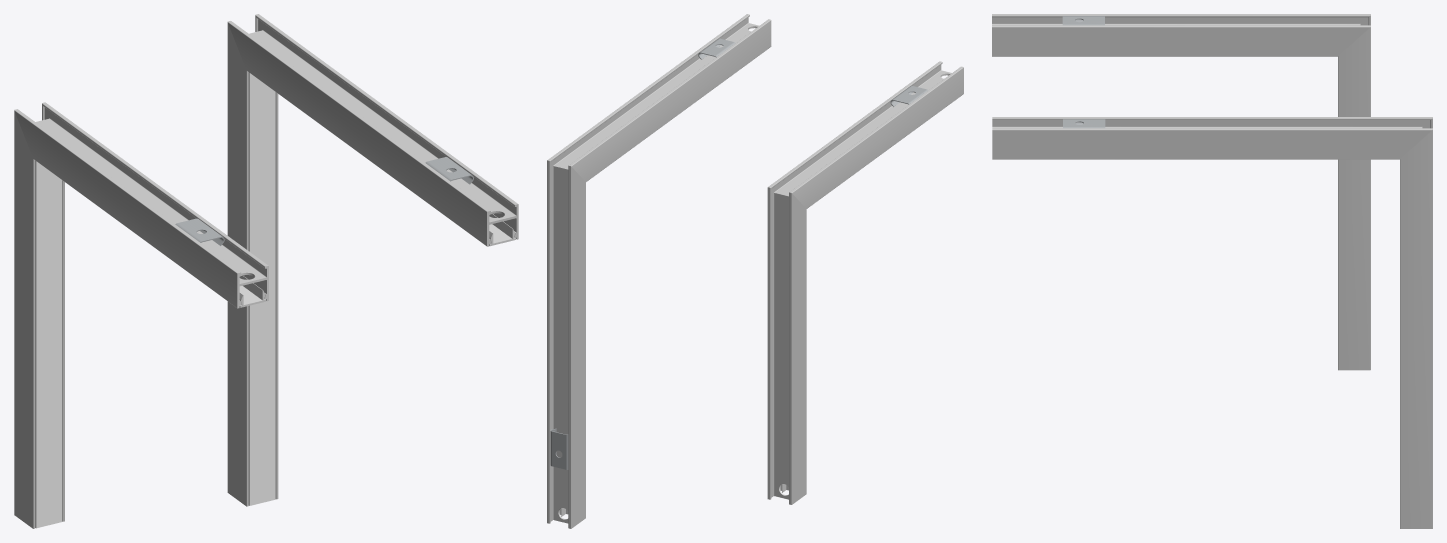
The model's file is Fit15Plafon-curva-teto-parede.glb.
The picture shows the model from 3 angles, left to right: view 1: azimuth 30°, elevation 25°; view 2: azimuth 150°, elevation 25°; view 3: azimuth 270°, elevation 25°; orthographic projection. The views are drawn at different scales.
Parts seen in each view (by area): view 1: 3DGeom-1 (×2), 3DGeom-12 (×2), 3DGeom-6, 3DGeom-10, 3DGeom-5, 3DGeom-9, 3DGeom-11, 3DGeom-3; view 2: 3DGeom-1 (×2), 3DGeom-12 (×2), 3DGeom-3; view 3: 3DGeom-1 (×2), 3DGeom-12 (×2).
Boxes of the visible parts, x1,y1,x2,y2 form: 3DGeom-1 (×2): [227, 14, 518, 506]; 3DGeom-12 (×2): [14, 102, 268, 528]; 3DGeom-6: [249, 73, 275, 505]; 3DGeom-10: [36, 161, 62, 528]; 3DGeom-5: [248, 72, 249, 505]; 3DGeom-9: [35, 160, 36, 527]; 3DGeom-11: [175, 218, 224, 245]; 3DGeom-3: [425, 157, 473, 184]; 3DGeom-1 (×2): [547, 14, 771, 528]; 3DGeom-12 (×2): [767, 61, 963, 504]; 3DGeom-3: [550, 428, 568, 469]; 3DGeom-1 (×2): [992, 117, 1432, 528]; 3DGeom-12 (×2): [992, 14, 1370, 370].
Size of the model in its own units: 0.1564 by 0.25 by 0.2502.
Materials: 3 (1 with a texture image).
